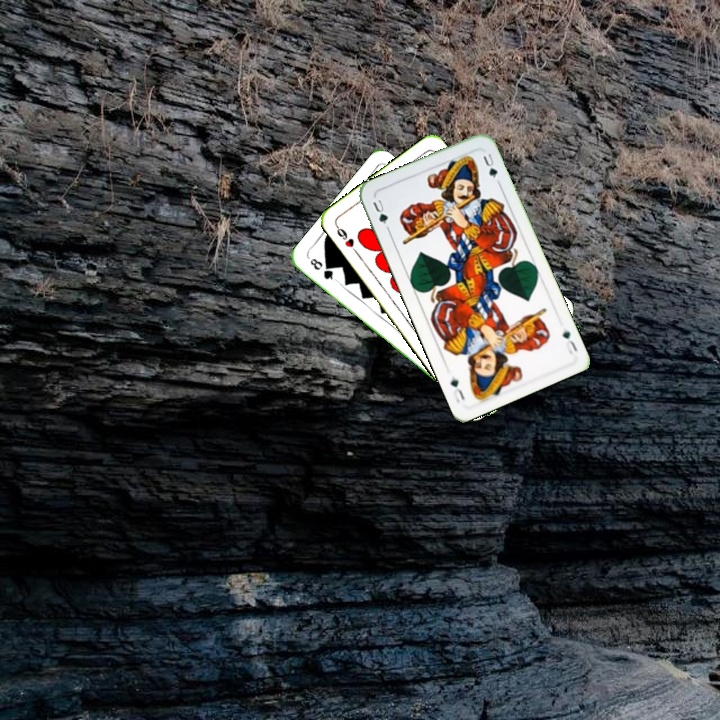G8: (306, 254, 339, 284)
GU: (368, 195, 391, 227), (558, 326, 580, 357)
H9: (331, 221, 360, 256)
